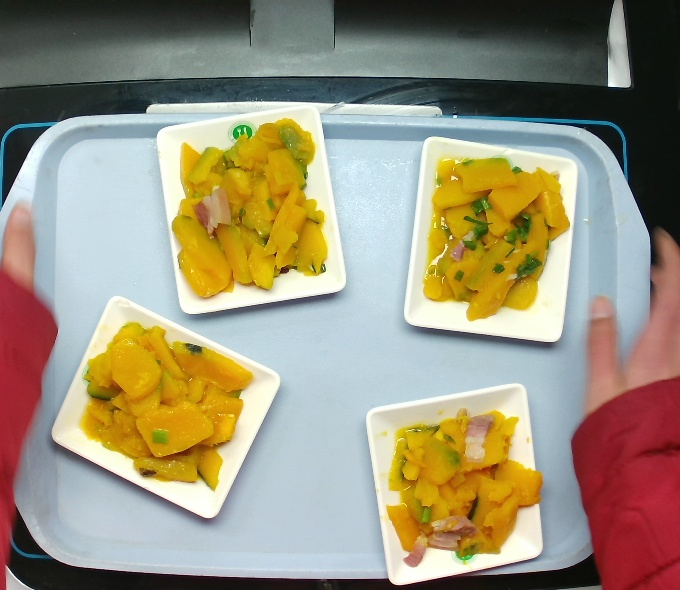wcq-NanGuaChaoLaRou: (71, 318, 257, 496), (168, 113, 331, 301), (380, 404, 546, 570), (420, 151, 575, 325)
